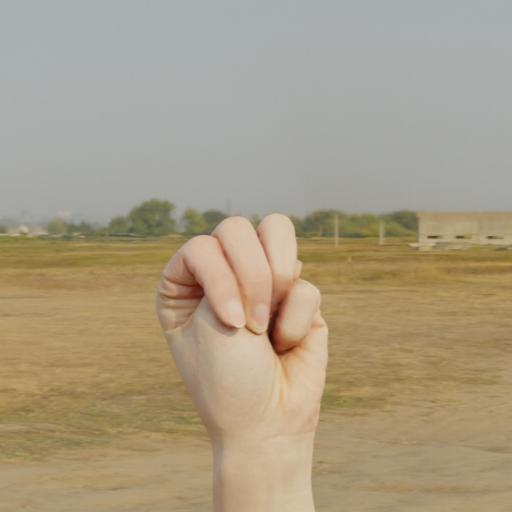M: (121, 196, 367, 458)
